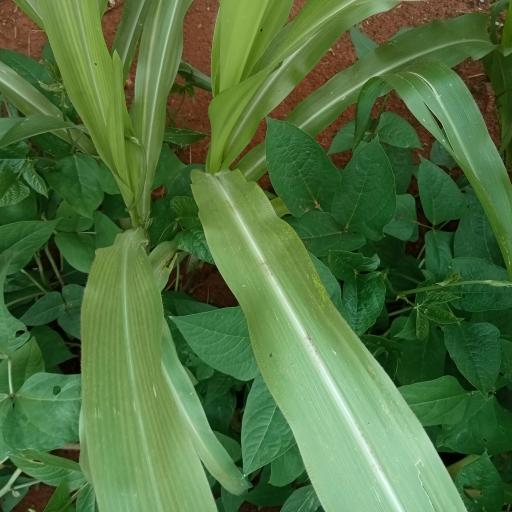Corn_Brown_Spots: (187, 167, 469, 512), (77, 231, 205, 512)
